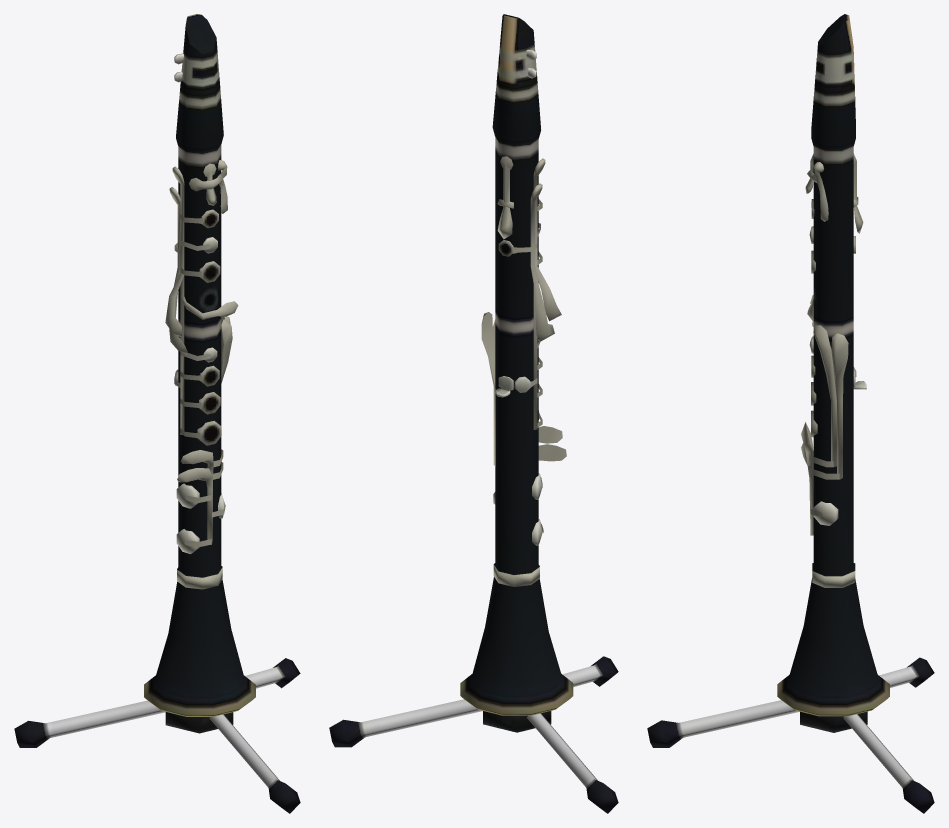
3 views of the same model, side by side, from view 1: azimuth 30°, elevation 25°; view 2: azimuth 150°, elevation 25°; view 3: azimuth 270°, elevation 25° (orthographic).
Bounding box in the file's own units: 4.43 × 10.87 × 3.88.
Materials: 1 (1 with a texture image).
